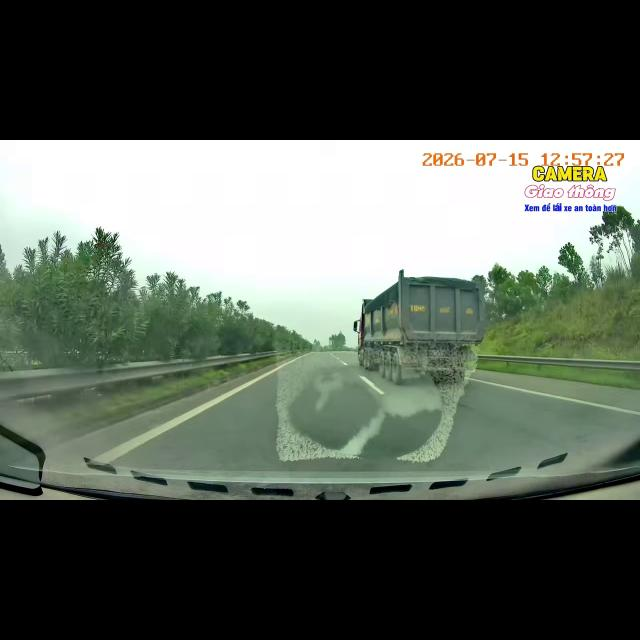truck: (353, 270, 485, 384)
